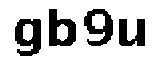9: (84, 6, 113, 51)
b: (48, 4, 80, 51)
g: (10, 17, 43, 57)
u: (116, 16, 147, 53)
